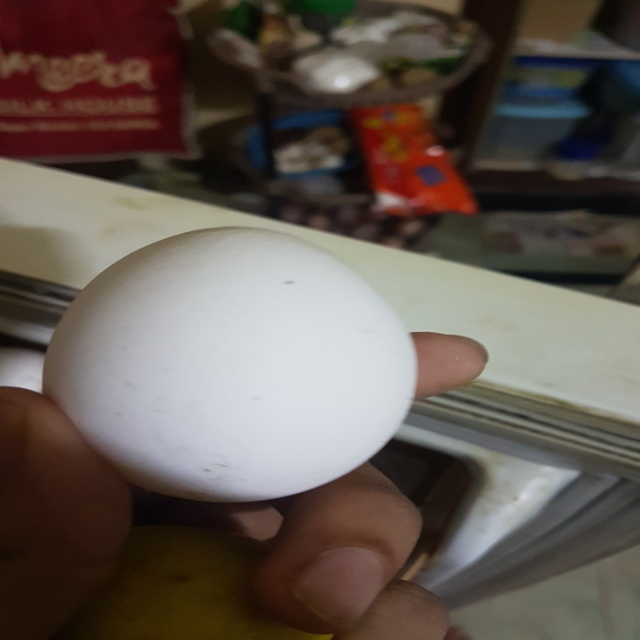eggs: (36, 211, 427, 508)
